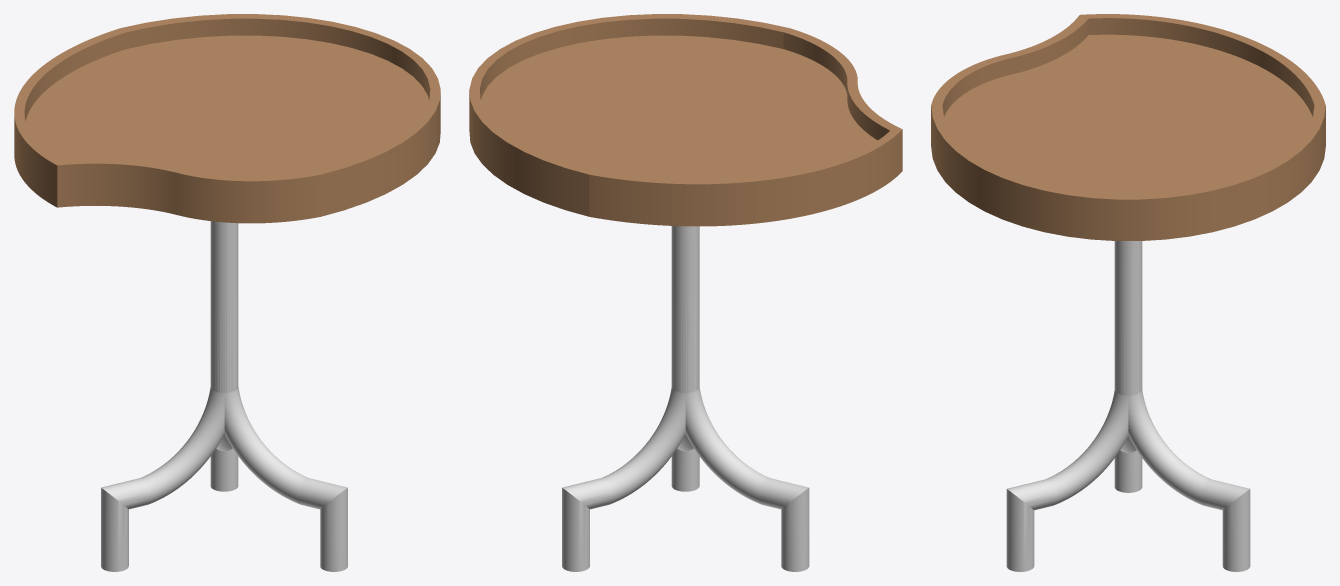
The model's file is mesa-auxiliar-tempranillo.glb.
3 views of the same model, side by side, from view 1: azimuth 30°, elevation 25°; view 2: azimuth 150°, elevation 25°; view 3: azimuth 270°, elevation 25° (orthographic).
Size of the model in its own units: 0.4783 by 0.52 by 0.43.
